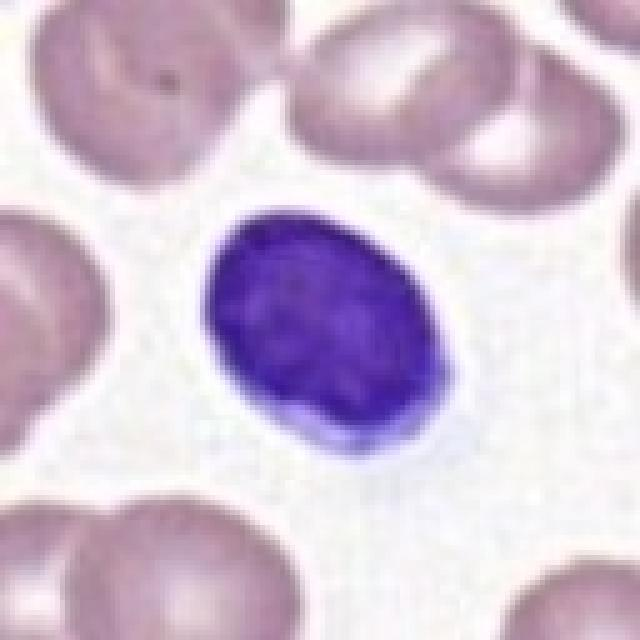lympho: (198, 202, 461, 467)
